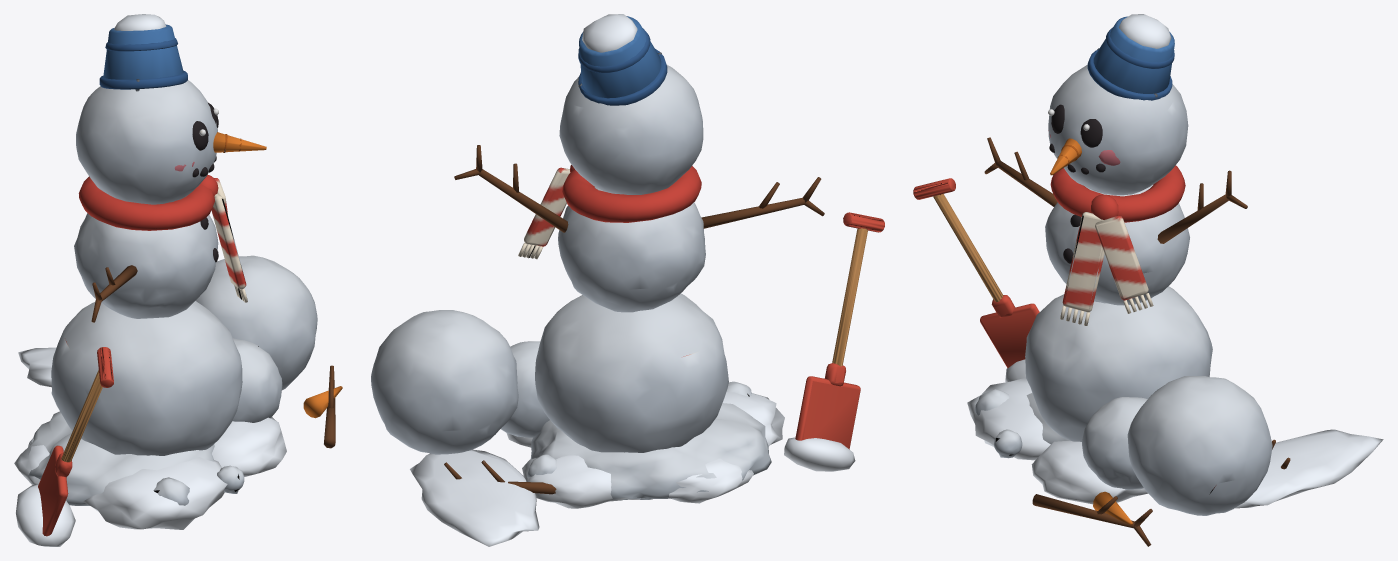
Rendered from snowman.glb.
3 views of the same model, side by side, from view 1: azimuth 30°, elevation 25°; view 2: azimuth 150°, elevation 25°; view 3: azimuth 270°, elevation 25° (orthographic). The views are drawn at different scales.
Parts seen in each view (by area): view 1: arm_l; view 2: arm_l; view 3: arm_l.
Boxes of the visible parts, <box> form: arm_l: <box>14,14,342,546</box>; arm_l: <box>371,14,884,546</box>; arm_l: <box>913,14,1383,546</box>.
Bounding box in the file's own units: 1.54 × 1.78 × 1.69.
Materials: 1 (1 with a texture image).
